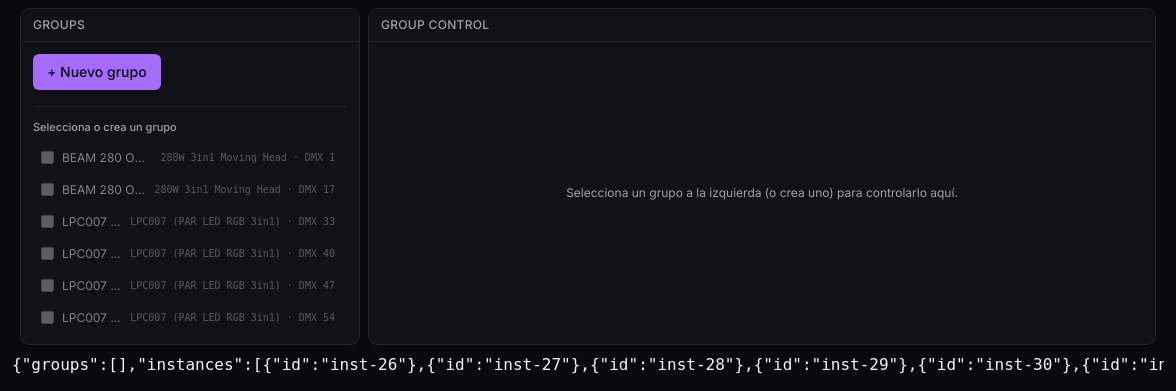
GroupsView — flujo real de usuario › crea un grupo nuevo con el prompt de nombre
Click the button "+ Nuevo grupo".
click(97, 72)  # box [33,54,161,90]
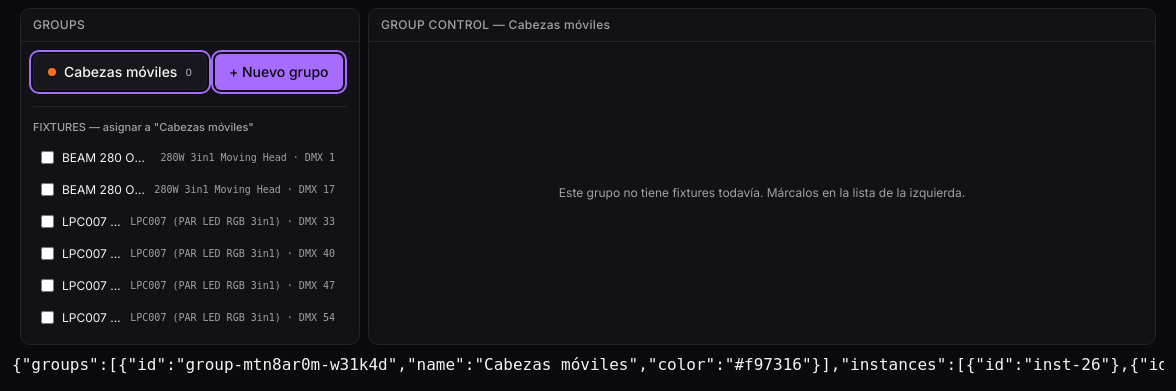
Now the button "Cabezas móviles 0" is shown, box [33,54,207,90]
